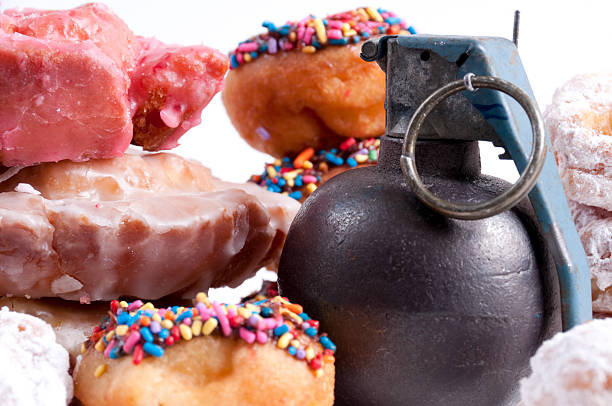e1: (277, 33, 592, 406)
